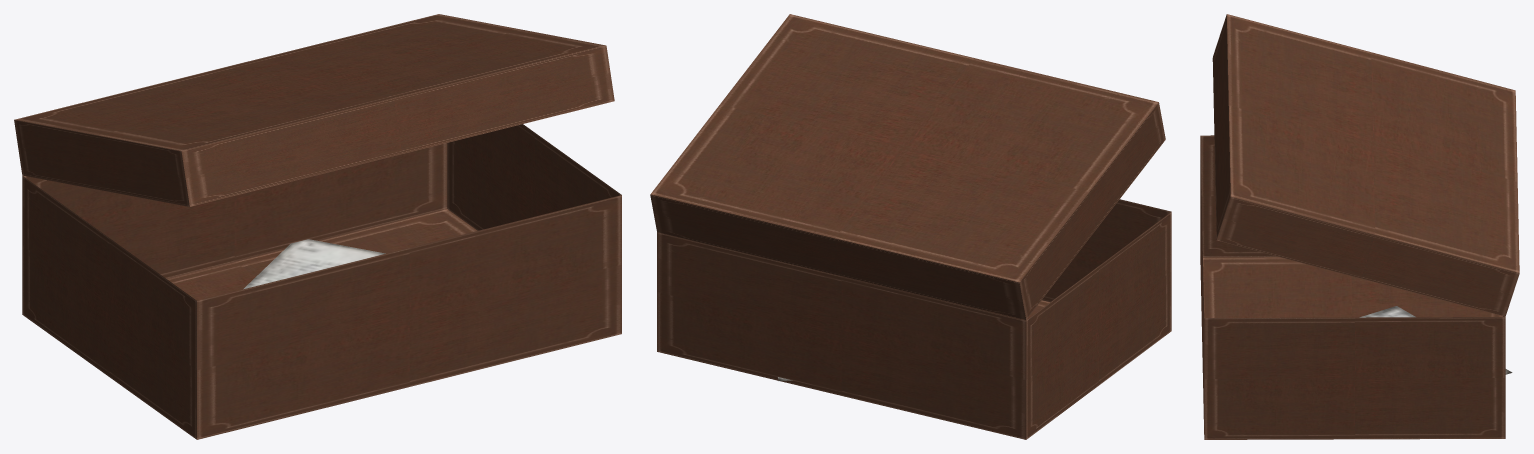
File: box_for_letters.fbx
The picture shows the model from 3 angles, left to right: view 1: azimuth 30°, elevation 25°; view 2: azimuth 150°, elevation 25°; view 3: azimuth 270°, elevation 25°; orthographic projection. The views are drawn at different scales.
Parts seen in each view (by area): view 1: box_base2, box_lid2, box_base, letter, box_lid; view 2: box_lid2, box_base2, box_lid, box_base; view 3: box_lid2, box_base2, box_lid, box_base, letter.
Part boxes in pixels (box(x1,y1,x2,y2)): box_base2: box(22, 124, 621, 439); box_lid2: box(14, 14, 614, 205); box_base: box(22, 133, 621, 438); letter: box(243, 239, 385, 289); box_lid: box(22, 54, 614, 206); box_lid2: box(650, 14, 1165, 318); box_base2: box(657, 199, 1171, 439); box_lid: box(650, 139, 1165, 319); box_base: box(657, 200, 1171, 439); box_lid2: box(1213, 14, 1519, 273); box_base2: box(1200, 135, 1505, 439); box_lid: box(1212, 58, 1519, 316); box_base: box(1200, 136, 1505, 439); letter: box(1359, 306, 1512, 374).
Size of the model in its own units: 184 by 114 by 135.
1 material, 1 textured.
